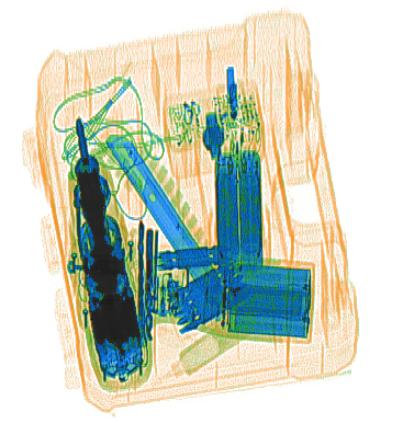battery: (220, 259, 312, 342), (213, 147, 263, 271)
knife: (103, 125, 228, 308)
